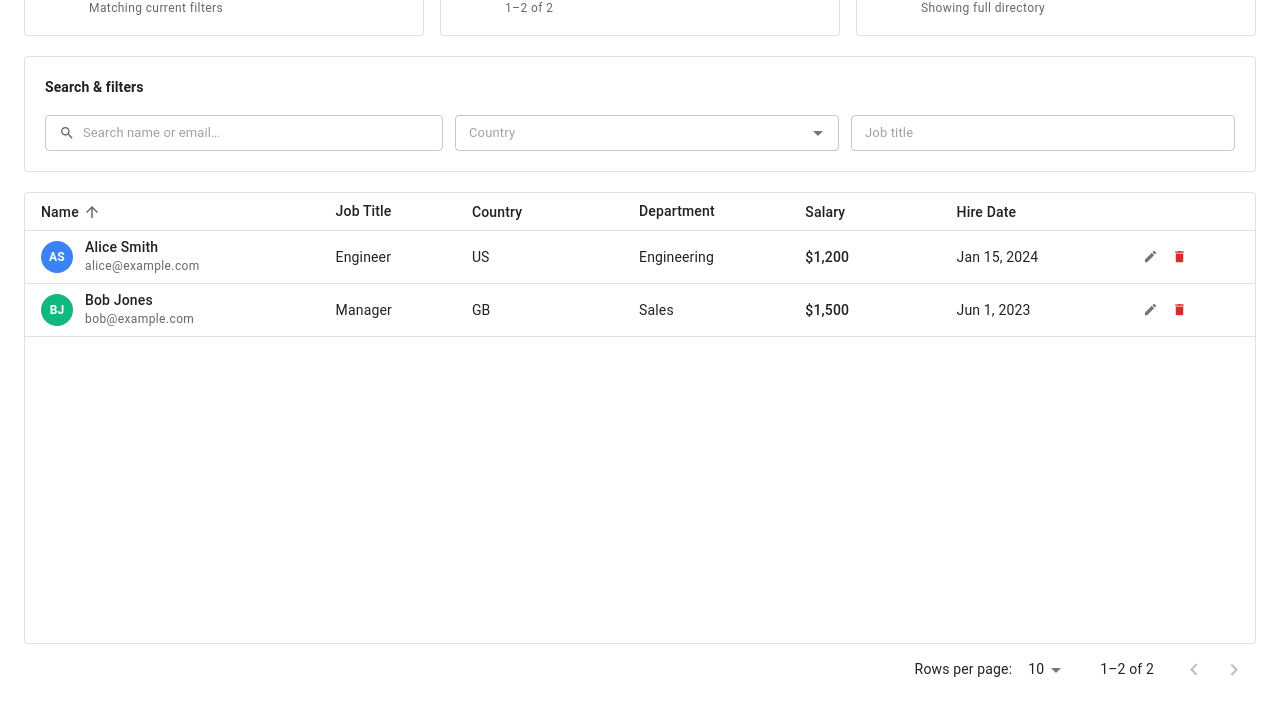
Test: EmployeesPage › changes page size via rows-per-page control
(page scrolled)
Expected: the link "Alice Smith" is shown, [85,239,158,255]
Click the dropdown named "rows per page".
click(1036, 669)  # box [1028,661,1044,677]
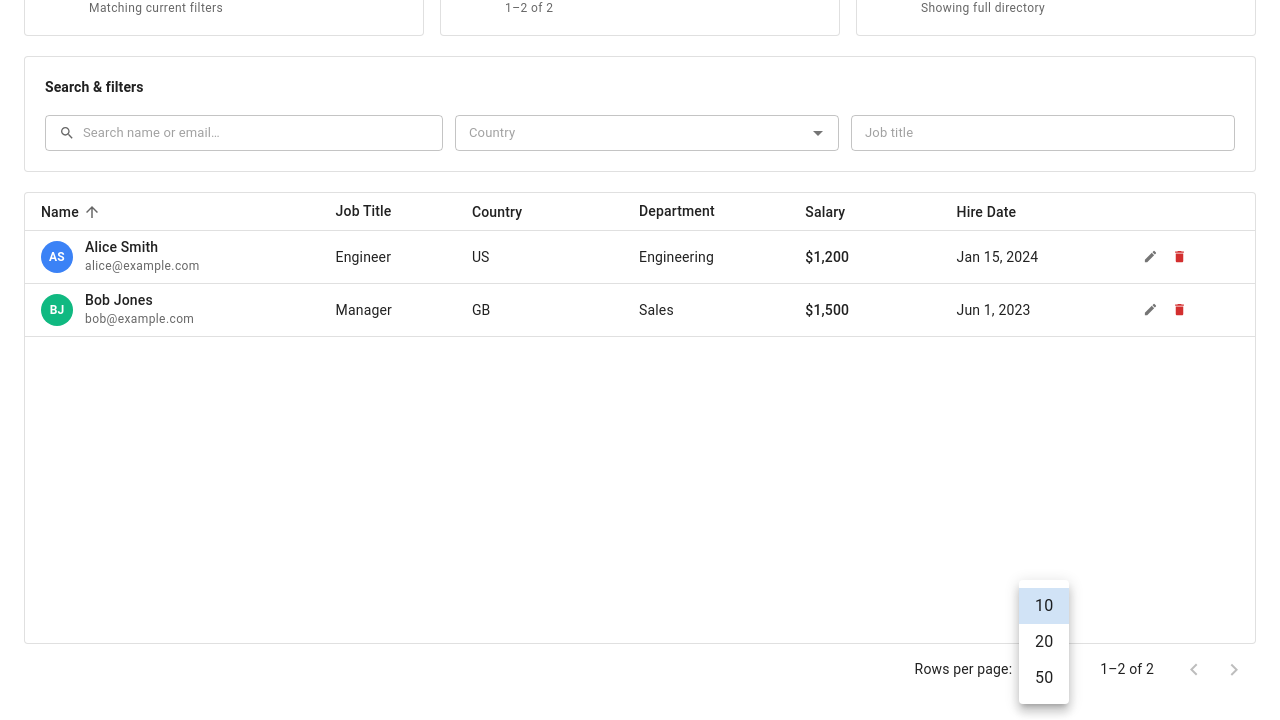
Click the option "20".
click(1044, 642)  # box [1035,632,1053,651]
(page scrolled)
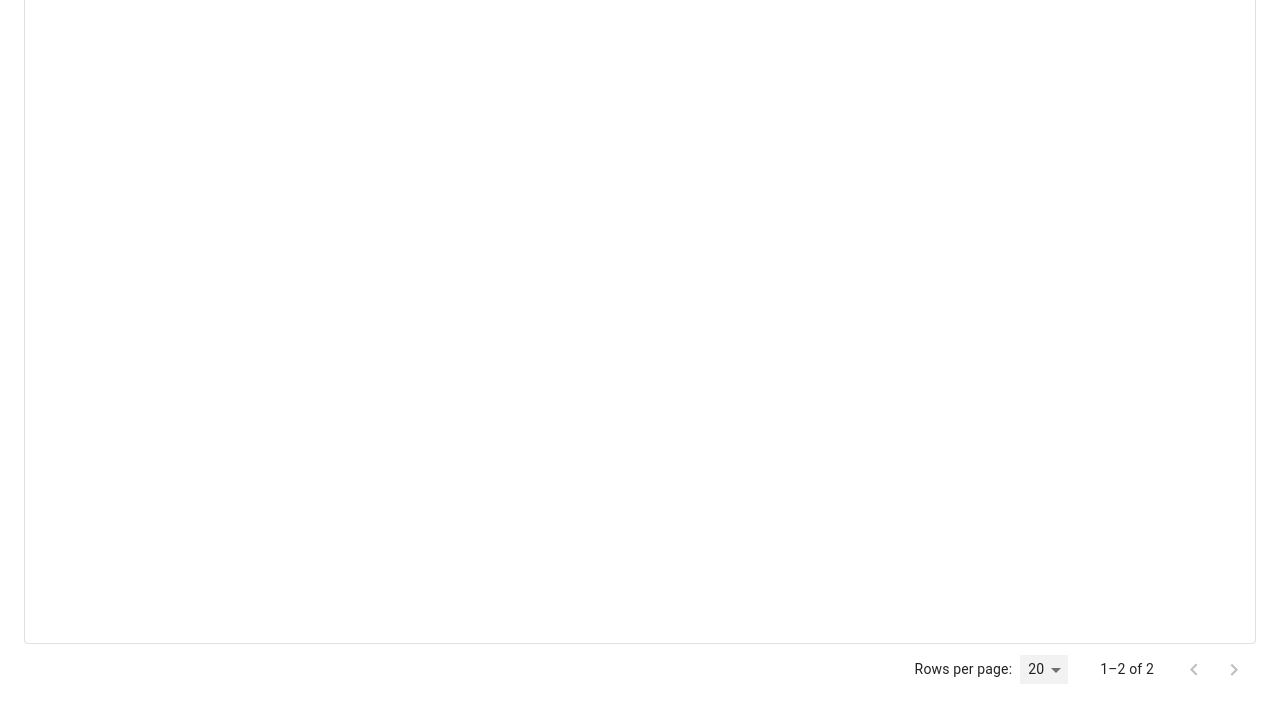
Expected: the dropdown named "rows per page" reads "20", [1020,655,1068,684]
